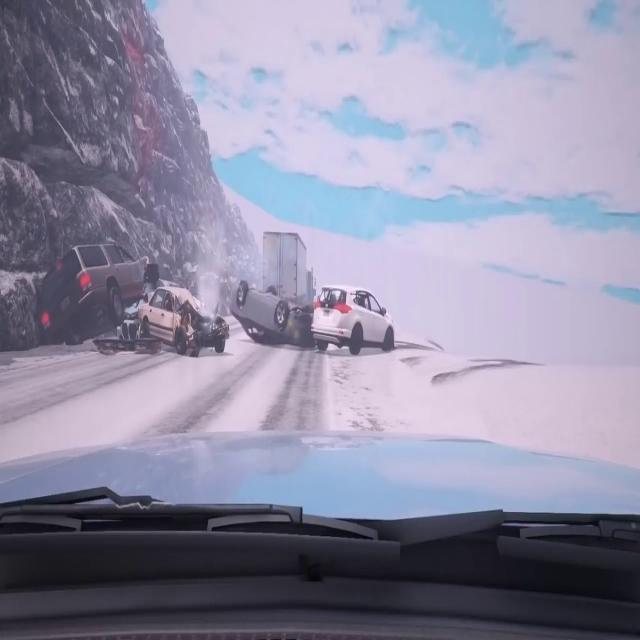accident: (36, 233, 406, 359)
